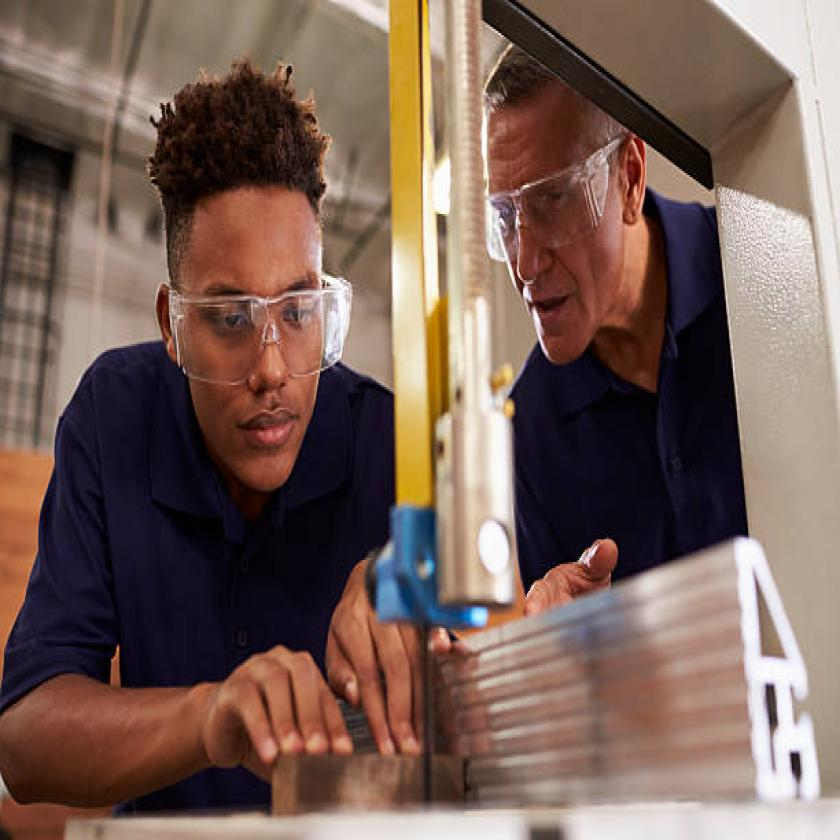Sin_casco: (139, 30, 385, 500), (480, 45, 664, 379)
